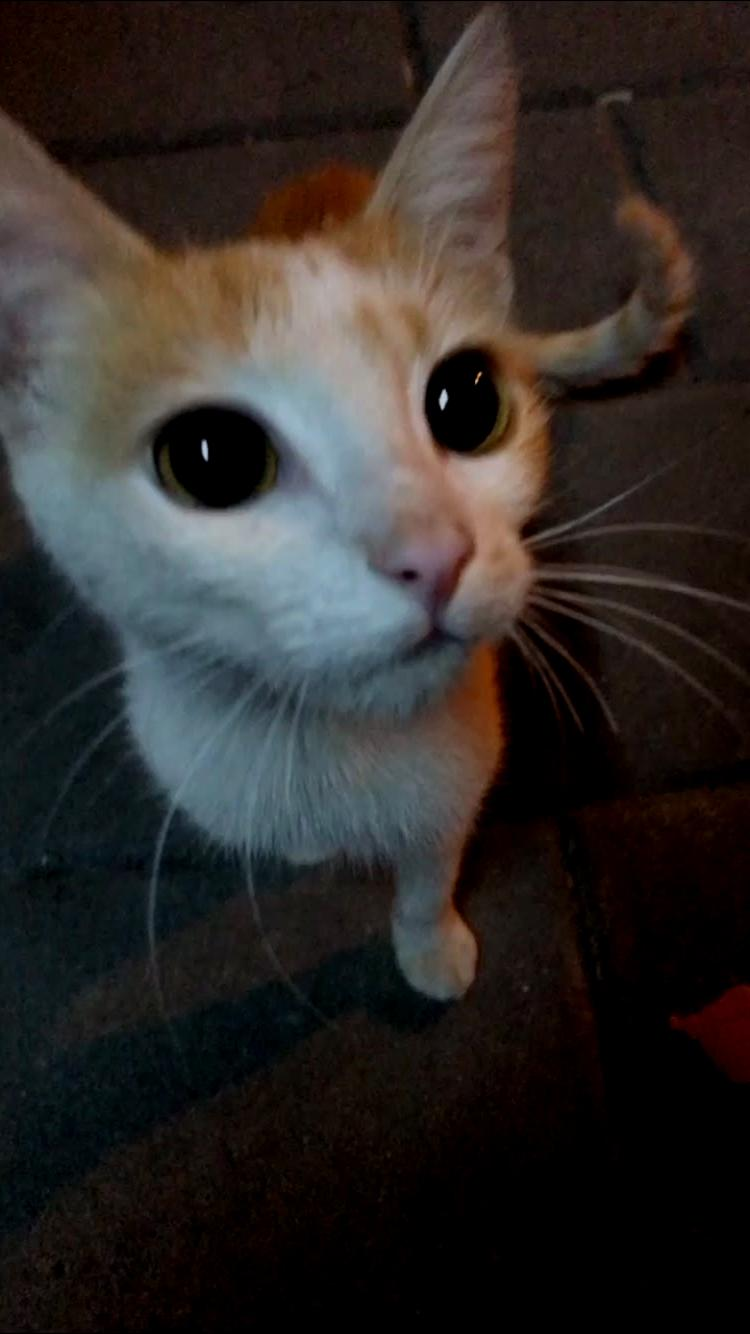macka: (1, 3, 703, 1000)
